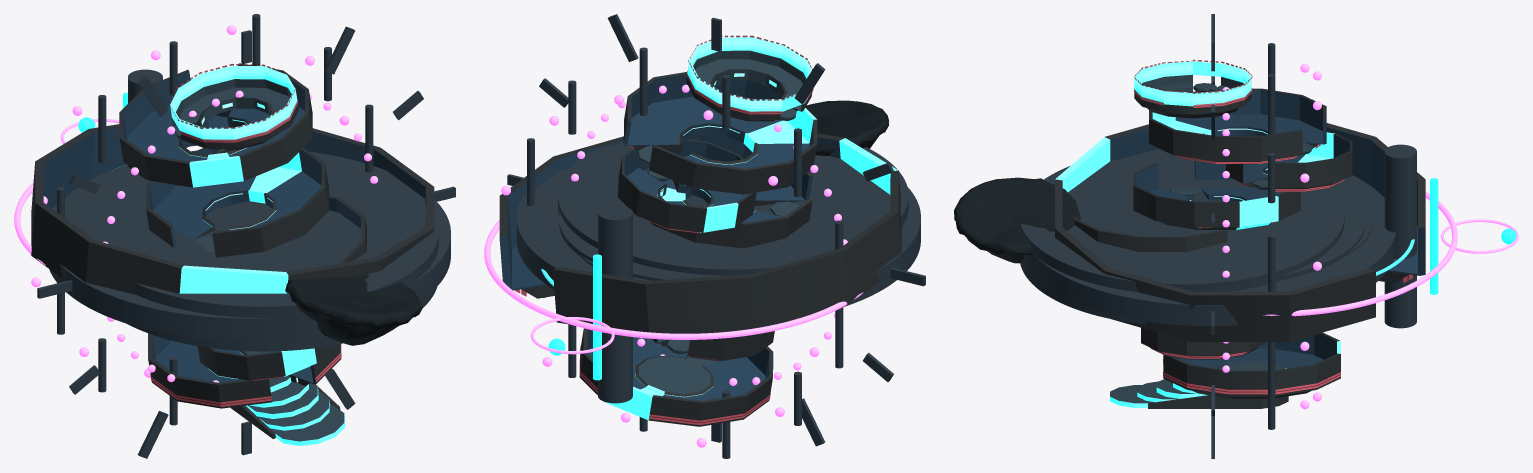
The picture shows the model from 3 angles, left to right: view 1: azimuth 30°, elevation 25°; view 2: azimuth 150°, elevation 25°; view 3: azimuth 270°, elevation 25°; orthographic projection. The views are drawn at different scales.
Visible parts, largest first — view 1: AI_PM_core_station_Aero_Station_01_Art, AI_PM_core_lower_habitat_band, AI_PM_core_magenta_ring_asset_Aero_Station_PinkRing_Art, AI_PM_core_primary_round_deck, AI_PM_core_island_Floating_Island_01_Art, AI_PM_core_signal_tower_04, AI_PM_core_signal_tower_00, AI_PM_core_command_tower, AI_PM_core_dock_08, AI_PM_core_dock_02, AI_PM_core_outer_magenta_runway, AI_PM_core_dock_04 (+4 smaller); view 2: AI_PM_core_station_Aero_Station_01_Art, AI_PM_core_magenta_ring_asset_Aero_Station_PinkRing_Art, AI_PM_core_lower_habitat_band, AI_PM_core_primary_round_deck, AI_PM_core_command_tower, AI_PM_core_island_Floating_Island_01_Art, AI_PM_core_outer_magenta_runway, AI_PM_core_mid_habitat_band, AI_PM_core_tower_light_column, AI_PM_core_tower_signal_ring, AI_PM_core_signal_tower_02, AI_PM_core_dock_02 (+8 smaller); view 3: AI_PM_core_station_Aero_Station_01_Art, AI_PM_core_lower_habitat_band, AI_PM_core_magenta_ring_asset_Aero_Station_PinkRing_Art, AI_PM_core_primary_round_deck, AI_PM_core_island_Floating_Island_01_Art, AI_PM_core_command_tower, AI_PM_core_mid_habitat_band, AI_PM_core_outer_magenta_runway, AI_PM_core_tower_light_column, AI_PM_core_tower_signal_ring.
Boxes of the visible parts, box(x1,y1,x2,y2) form: AI_PM_core_station_Aero_Station_01_Art: box(119, 63, 366, 445); AI_PM_core_lower_habitat_band: box(88, 163, 438, 351); AI_PM_core_magenta_ring_asset_Aero_Station_PinkRing_Art: box(31, 124, 434, 294); AI_PM_core_primary_round_deck: box(49, 150, 450, 340); AI_PM_core_island_Floating_Island_01_Art: box(285, 274, 422, 345); AI_PM_core_signal_tower_04: box(98, 95, 106, 163); AI_PM_core_signal_tower_00: box(365, 104, 373, 172); AI_PM_core_command_tower: box(128, 69, 162, 103); AI_PM_core_dock_08: box(137, 411, 168, 458); AI_PM_core_dock_02: box(324, 26, 355, 74); AI_PM_core_outer_magenta_runway: box(14, 182, 45, 266); AI_PM_core_dock_04: box(138, 75, 168, 116); AI_PM_core_station_Aero_Station_01_Art: box(579, 35, 817, 426); AI_PM_core_magenta_ring_asset_Aero_Station_PinkRing_Art: box(499, 133, 901, 333); AI_PM_core_lower_habitat_band: box(558, 143, 908, 275); AI_PM_core_primary_round_deck: box(516, 167, 920, 307); AI_PM_core_command_tower: box(598, 205, 632, 403); AI_PM_core_island_Floating_Island_01_Art: box(805, 100, 889, 155); AI_PM_core_outer_magenta_runway: box(484, 220, 863, 339); AI_PM_core_mid_habitat_band: box(559, 213, 728, 280); AI_PM_core_tower_light_column: box(593, 254, 601, 380); AI_PM_core_tower_signal_ring: box(530, 317, 614, 354); AI_PM_core_signal_tower_02: box(639, 47, 647, 115); AI_PM_core_dock_02: box(607, 14, 638, 61); AI_PM_core_station_Aero_Station_01_Art: box(1074, 59, 1352, 408); AI_PM_core_lower_habitat_band: box(1020, 149, 1344, 324); AI_PM_core_magenta_ring_asset_Aero_Station_PinkRing_Art: box(1055, 123, 1425, 341); AI_PM_core_primary_round_deck: box(1034, 175, 1395, 325); AI_PM_core_island_Floating_Island_01_Art: box(954, 177, 1080, 263); AI_PM_core_command_tower: box(1384, 144, 1416, 328); AI_PM_core_mid_habitat_band: box(1283, 185, 1365, 279); AI_PM_core_outer_magenta_runway: box(1263, 191, 1457, 316); AI_PM_core_tower_light_column: box(1430, 178, 1438, 294); AI_PM_core_tower_signal_ring: box(1441, 219, 1518, 253).
Bounding box in the file's own units: 2.14 × 2.07 × 2.71.
Materials: 18 (6 with a texture image).
